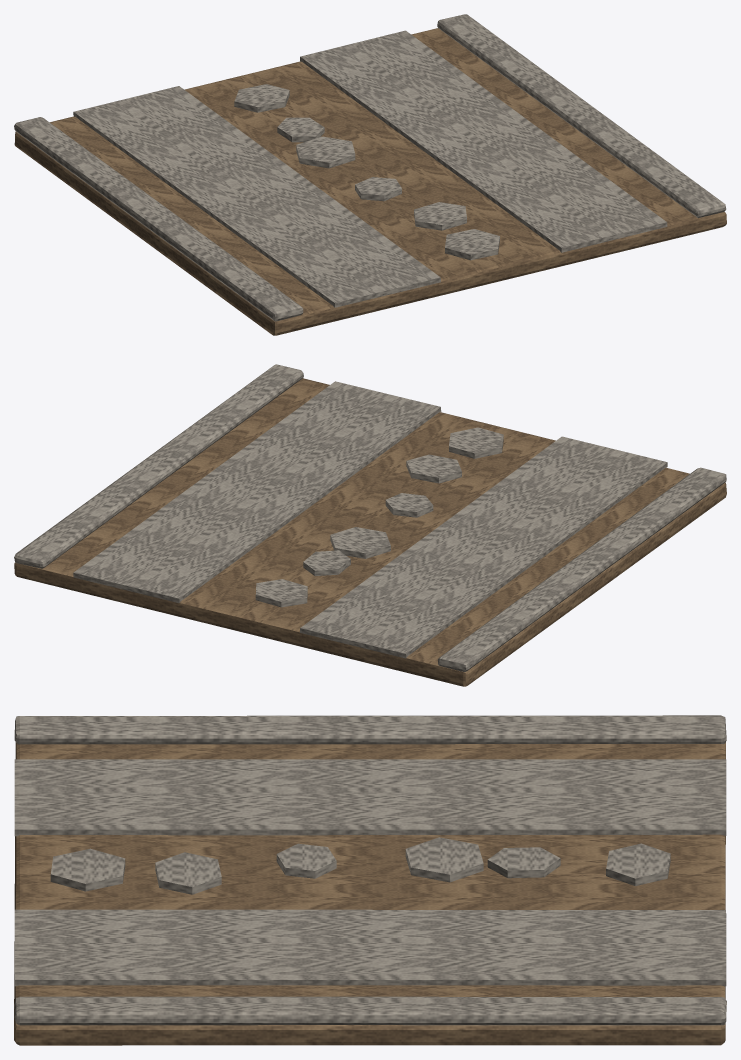
The model's file is road_tile.glb.
The picture shows the model from 3 angles, top to bottom: view 1: azimuth 30°, elevation 25°; view 2: azimuth 150°, elevation 25°; view 3: azimuth 270°, elevation 25°; orthographic projection. The views are drawn at different scales.
Parts seen in each view (by area): view 1: RoadTile; view 2: RoadTile; view 3: RoadTile.
Part boxes in pixels (bbox=[...]): RoadTile: bbox=[14, 14, 726, 335]; RoadTile: bbox=[14, 364, 726, 686]; RoadTile: bbox=[14, 715, 726, 1045].
Size of the model in its own units: 1.68 by 0.0872 by 1.68.
Materials: 2 (2 with a texture image).
